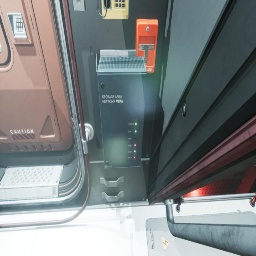EmergencyPhone ,: (97, 0, 129, 19)
FireAlarm ,: (135, 19, 158, 73)
